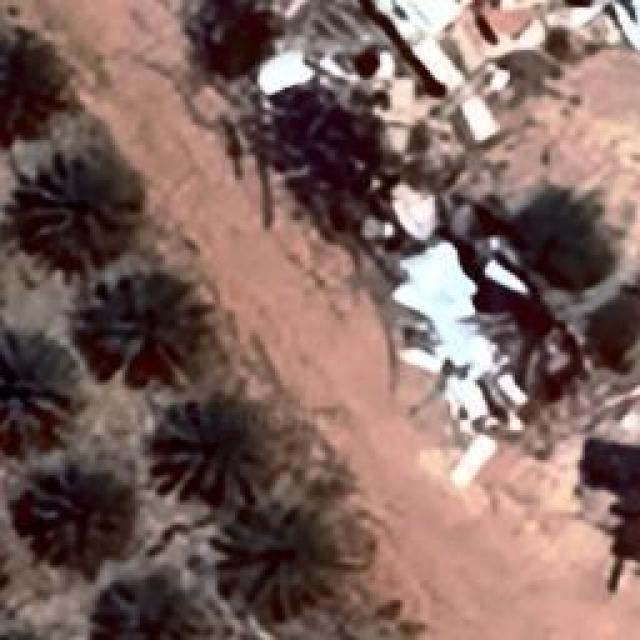PalmTree: (76, 280, 206, 395), (220, 490, 338, 610), (34, 146, 134, 266), (150, 404, 268, 494), (82, 565, 210, 640), (30, 464, 130, 558), (0, 345, 68, 453), (0, 30, 65, 130)
